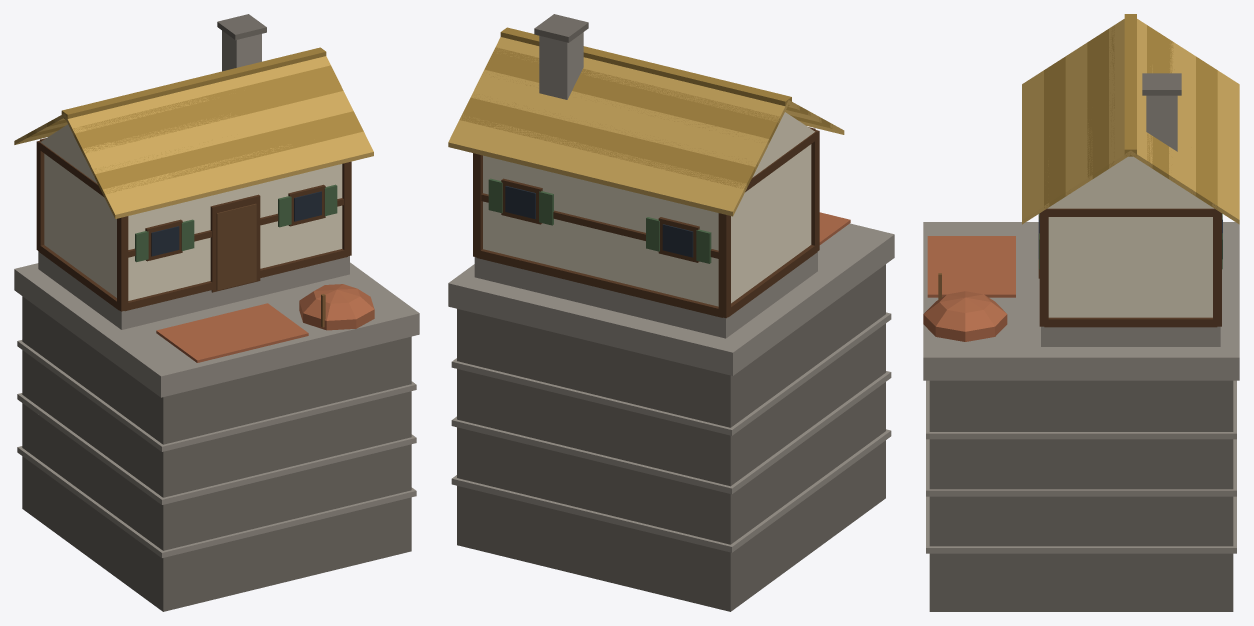
Rendered from clay_pit.glb.
The picture shows the model from 3 angles, left to right: view 1: azimuth 30°, elevation 25°; view 2: azimuth 150°, elevation 25°; view 3: azimuth 270°, elevation 25°; orthographic projection. The views are drawn at different scales.
Visible parts, largest first — view 1: clay_pit; view 2: clay_pit; view 3: clay_pit.
Part boxes in pixels (x1,y1,x2,y2): clay_pit: [14, 14, 419, 611]; clay_pit: [448, 14, 894, 611]; clay_pit: [923, 14, 1239, 611].
Size of the model in its own units: 5.1 by 8.72 by 5.02.
